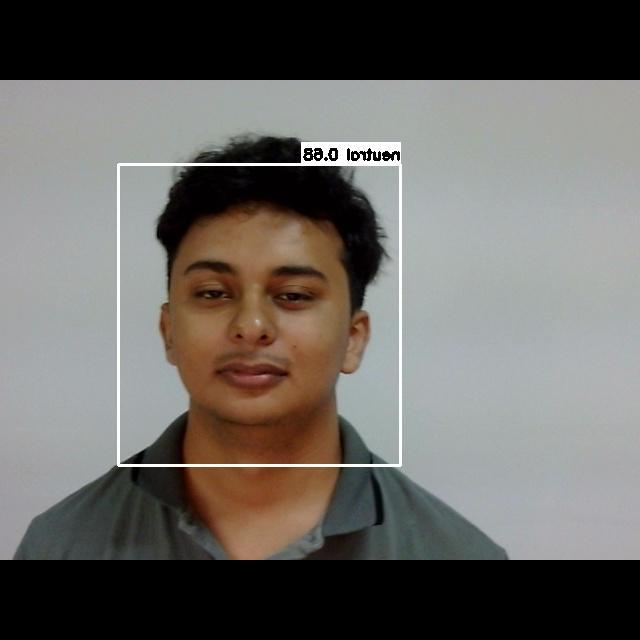Natural: (161, 234, 368, 441)
